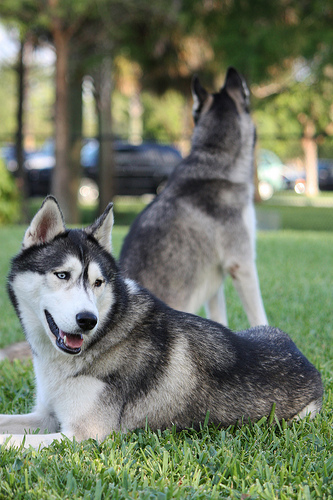dog: (0, 196, 324, 447), (115, 62, 266, 326)
